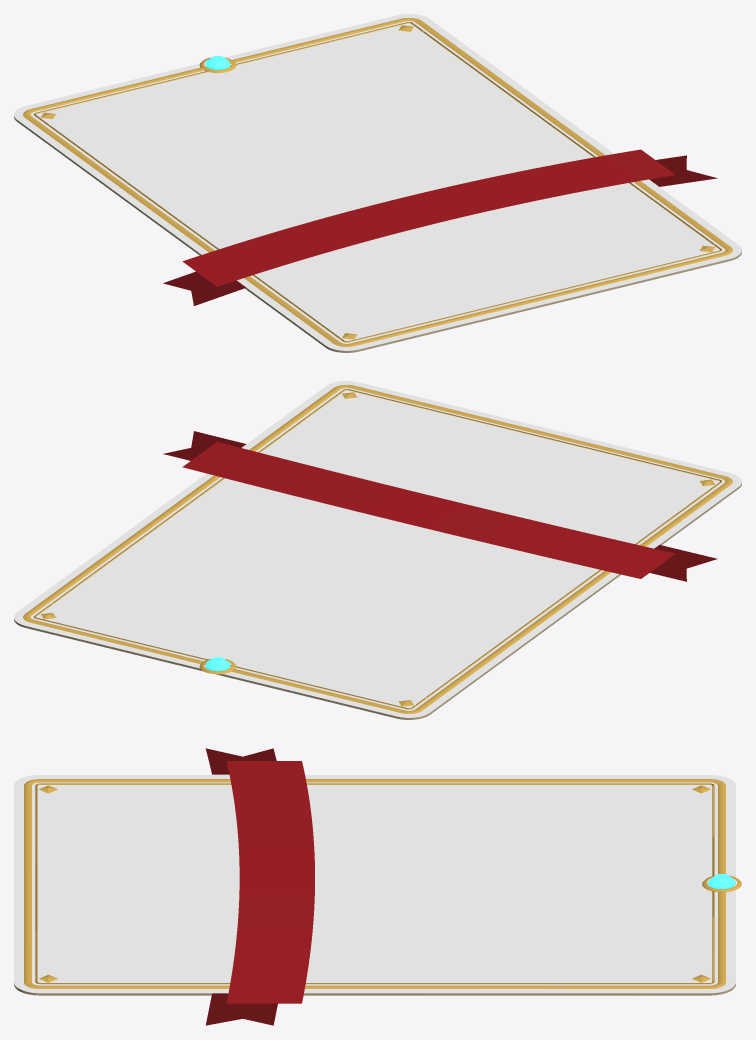
File: card.glb
3 renders of one model, top to bottom at view 1: azimuth 30°, elevation 25°; view 2: azimuth 150°, elevation 25°; view 3: azimuth 270°, elevation 25°, orthographic. The views are drawn at different scales.
Parts seen in each view (by area): view 1: Card; view 2: Card; view 3: Card.
Part boxes in pixels (x1,y1,x2,y2): Card: (14, 14, 741, 352); Card: (14, 381, 741, 719); Card: (14, 748, 741, 1025).
Bounding box in the file's own units: 0.8 × 0.0147 × 0.8873.
